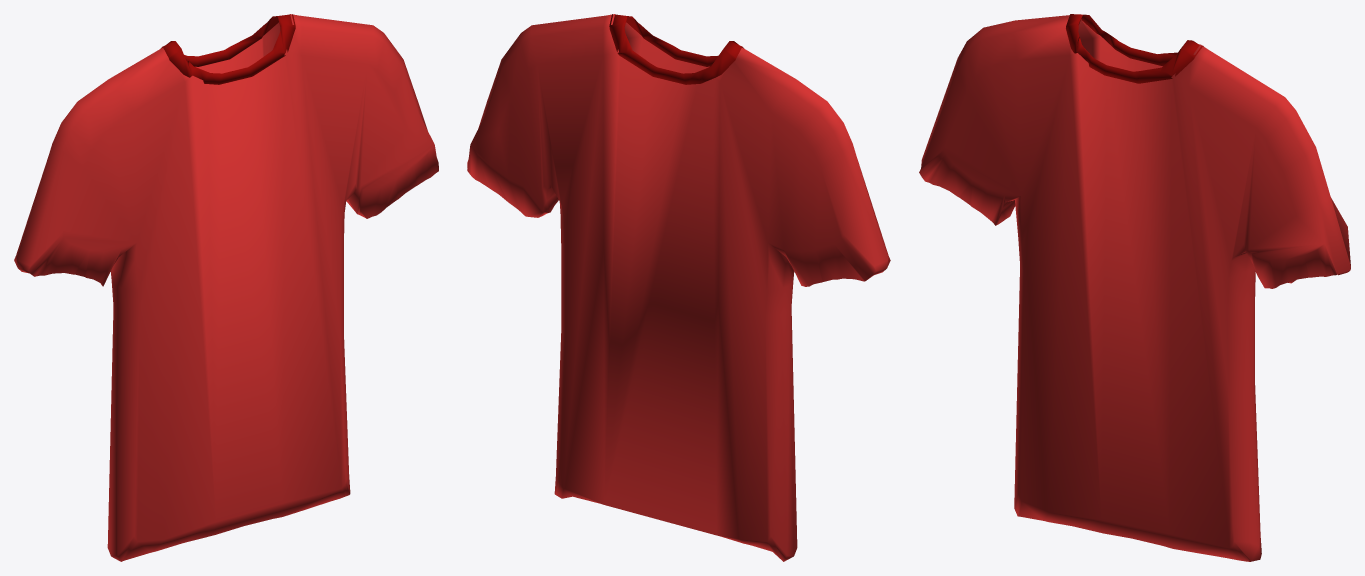
The model's file is red.dae.
The picture shows the model from 3 angles, left to right: view 1: azimuth 30°, elevation 25°; view 2: azimuth 150°, elevation 25°; view 3: azimuth 330°, elevation 25°; orthographic projection. The views are drawn at different scales.
Visible parts, largest first — view 1: Group_1_001, Group_2_001; view 2: Group_1_001, Group_2_001; view 3: Group_1_001, Group_2_001.
Part boxes in pixels (box(x1,y1,x2,y2)): Group_1_001: box(14, 14, 438, 561); Group_2_001: box(160, 14, 295, 84); Group_1_001: box(467, 14, 890, 561); Group_2_001: box(609, 14, 743, 84); Group_1_001: box(919, 15, 1350, 561); Group_2_001: box(1066, 14, 1203, 83).
Bounding box in the file's own units: 2.35 × 0.2281 × 2.68.
